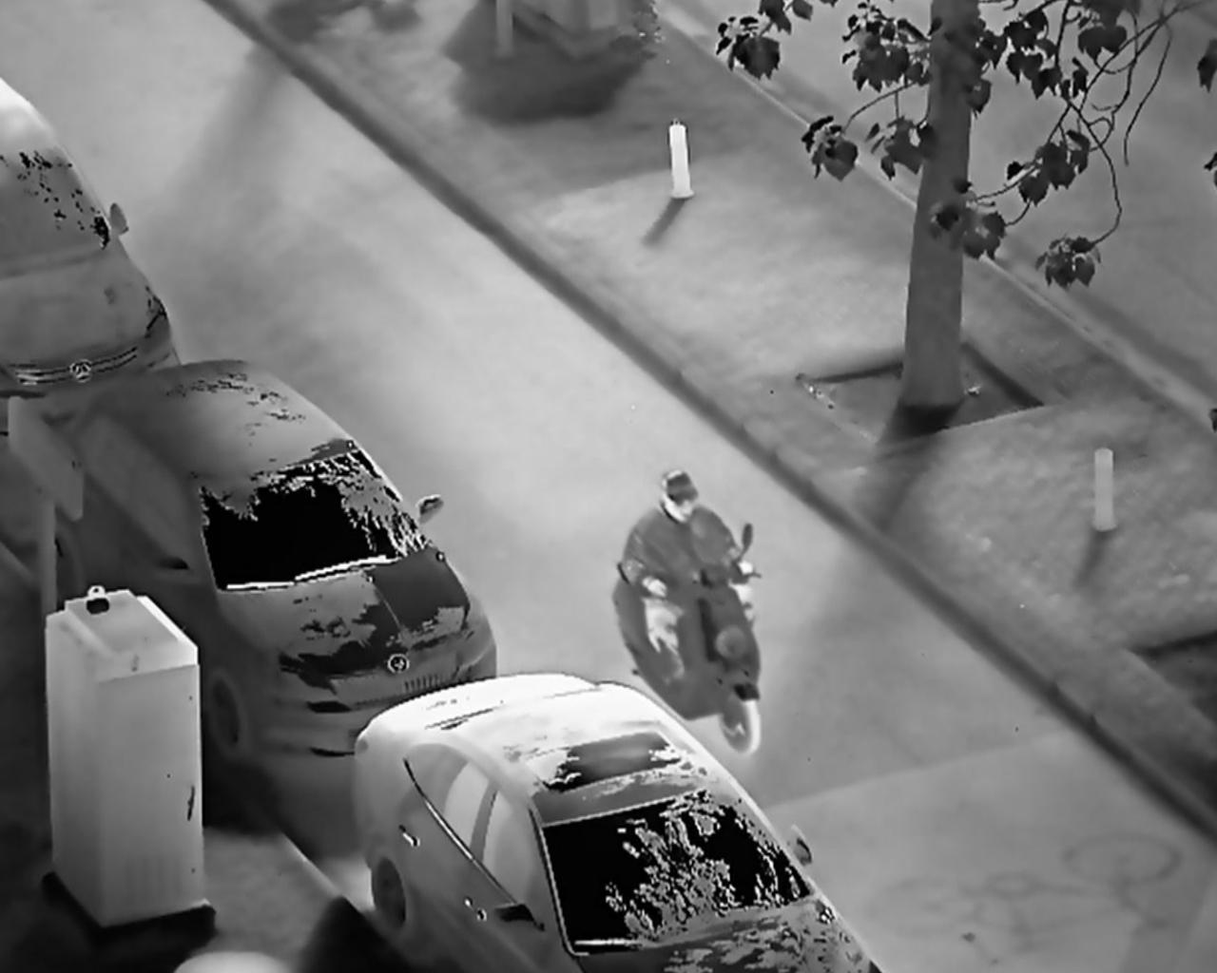person: (617, 467, 763, 688)
